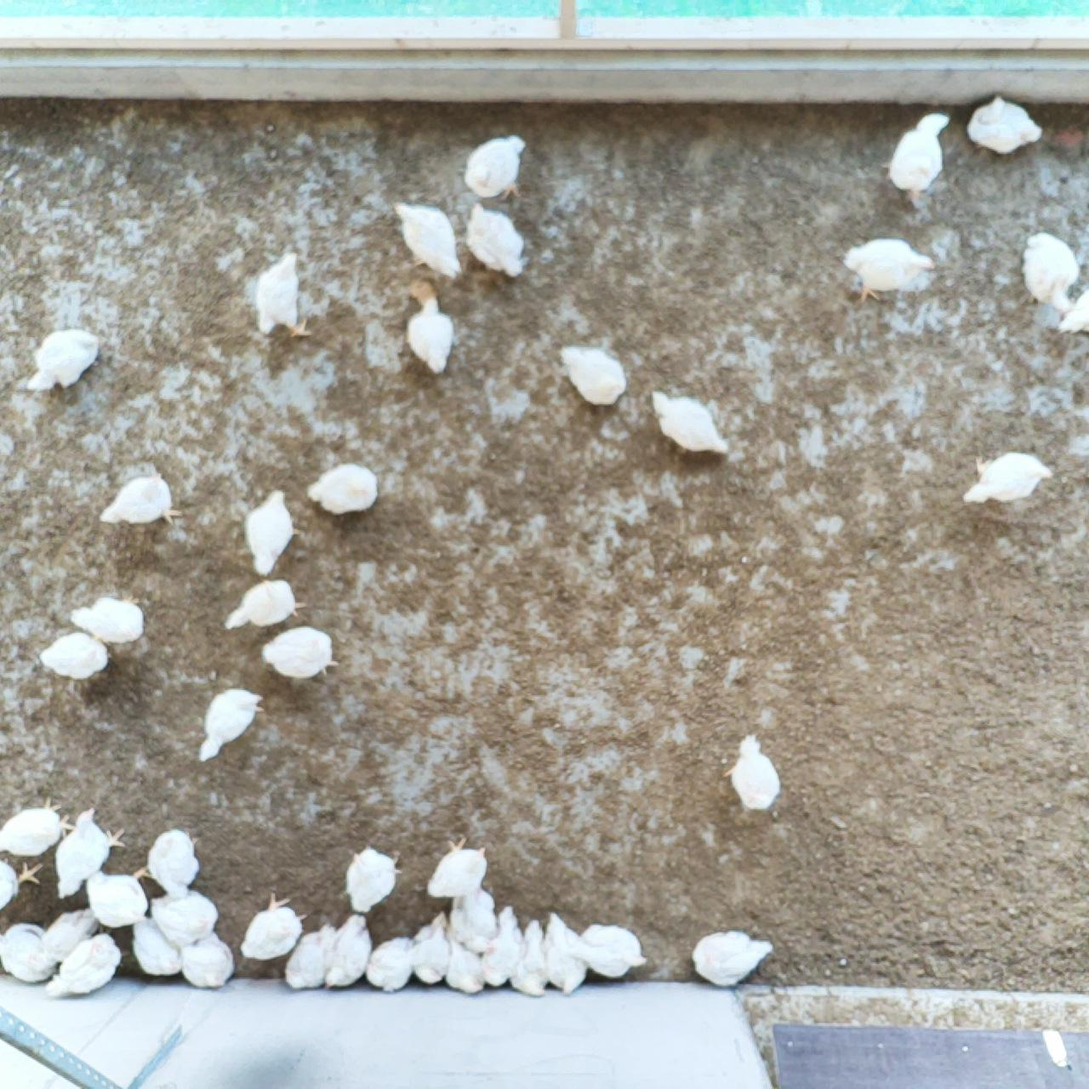chicken: (50, 805, 131, 904), (878, 108, 958, 207), (836, 232, 941, 306), (647, 381, 733, 460), (389, 196, 466, 284), (959, 442, 1054, 510), (553, 340, 636, 415), (689, 926, 778, 991), (252, 248, 314, 341), (195, 685, 266, 765), (22, 325, 101, 396), (44, 932, 124, 1002), (97, 467, 184, 531), (1020, 228, 1083, 316), (242, 484, 301, 577), (963, 91, 1046, 157), (720, 729, 785, 813), (238, 892, 313, 964), (465, 202, 532, 282), (563, 919, 649, 980), (65, 589, 152, 649), (260, 620, 341, 684), (0, 790, 74, 859), (461, 129, 530, 203), (81, 862, 156, 929), (400, 291, 458, 377), (224, 577, 309, 633), (421, 832, 490, 899), (342, 842, 404, 915), (303, 462, 384, 517), (540, 909, 591, 996), (145, 826, 204, 901), (445, 888, 504, 957), (150, 888, 222, 944), (479, 902, 525, 987), (324, 912, 373, 991), (38, 631, 111, 684), (0, 924, 60, 987), (282, 925, 337, 993), (178, 932, 239, 993), (510, 917, 554, 999), (129, 915, 185, 979), (410, 907, 453, 987), (363, 934, 417, 997), (439, 927, 485, 996), (43, 911, 105, 961), (0, 854, 46, 914)
